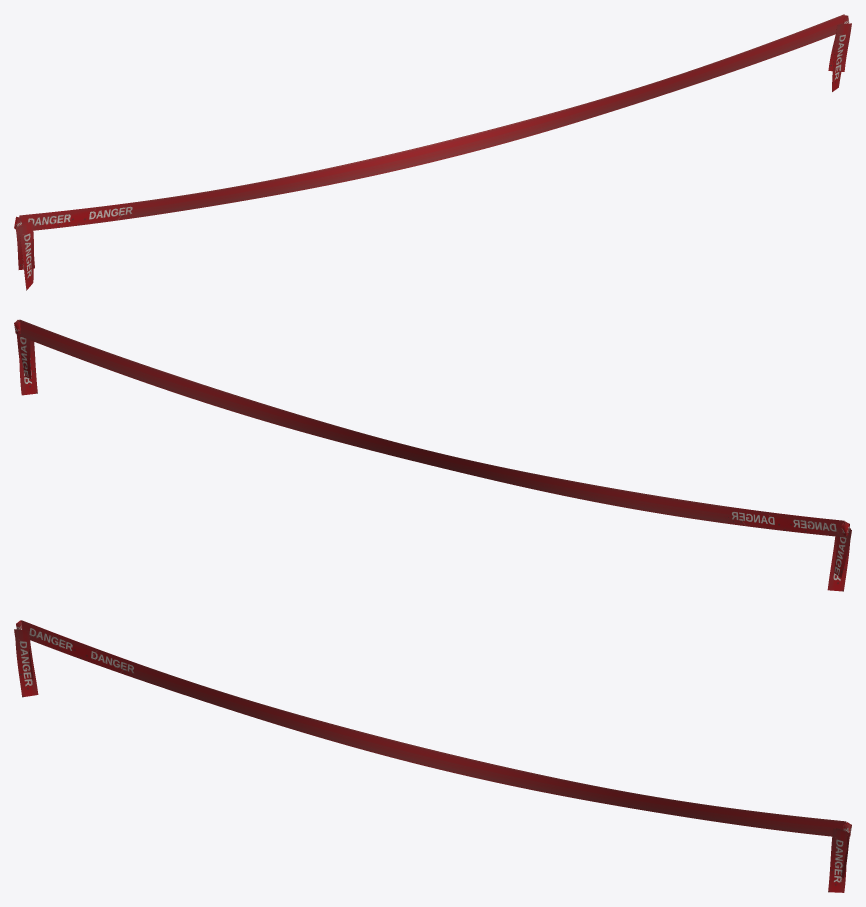
Rendered from SM_Ruban_Danger_4m.glb.
3 views of the same model, one above another, from view 1: azimuth 30°, elevation 25°; view 2: azimuth 150°, elevation 25°; view 3: azimuth 330°, elevation 25° (orthographic).
Visible parts, largest first — view 1: SM_Ruban_Danger_4m; view 2: SM_Ruban_Danger_4m; view 3: SM_Ruban_Danger_4m.
Part boxes in pixels (<box>): SM_Ruban_Danger_4m: <box>14,14,851,290</box>; SM_Ruban_Danger_4m: <box>14,319,851,591</box>; SM_Ruban_Danger_4m: <box>14,620,851,892</box>.
Bounding box in the file's own units: 4.04 × 0.3421 × 0.0487.
Materials: 1 (1 with a texture image).
